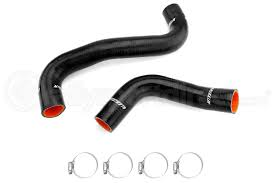radiator_hose: (39, 5, 187, 113), (95, 75, 238, 131)
